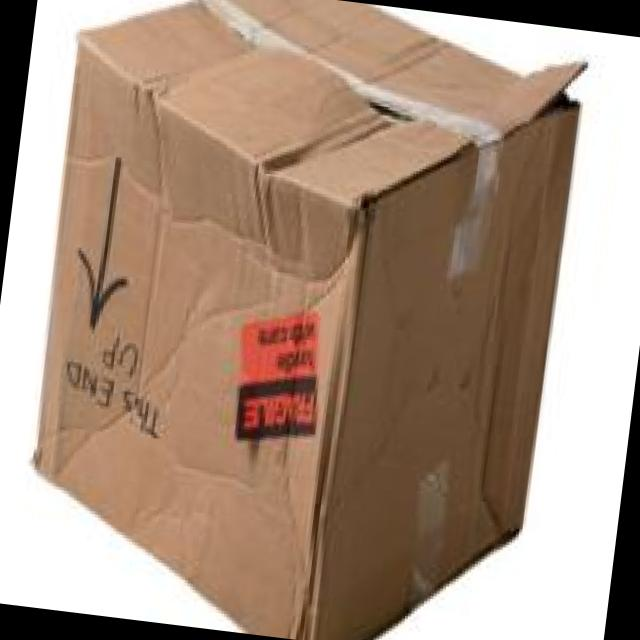box: (29, 1, 588, 640)
crushed: (57, 28, 384, 489)
tear: (506, 58, 589, 136)
